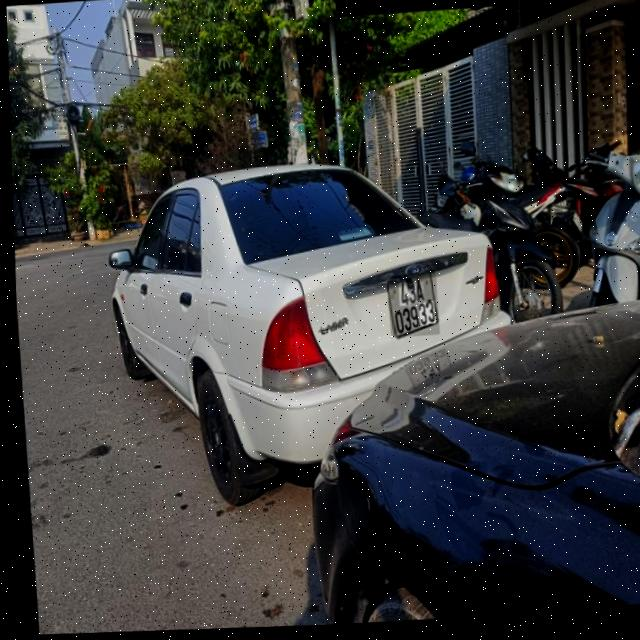car: (93, 145, 520, 522), (261, 379, 640, 628)
motorcycle: (457, 162, 585, 341)
plate: (376, 269, 448, 343)
